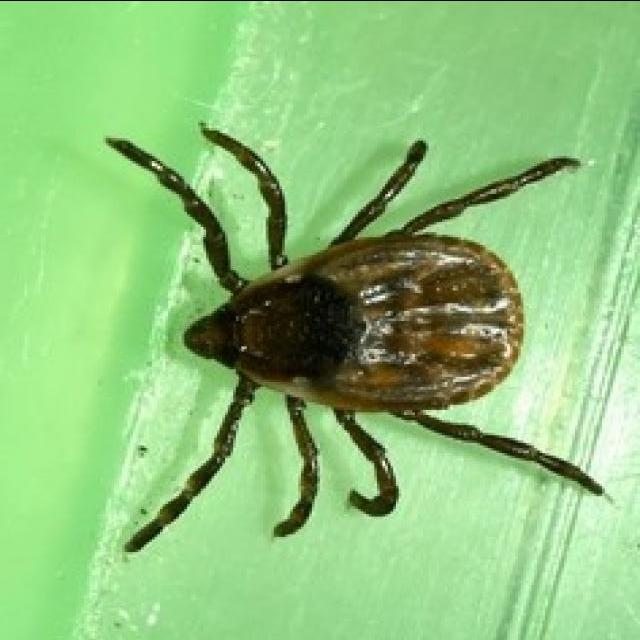Rhipicephalus Sanguineus-F: (103, 122, 607, 551)
